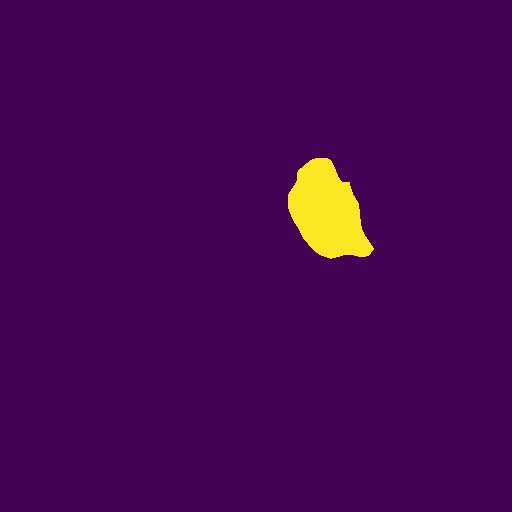Gliomia_tumour: (288, 158, 374, 259)
